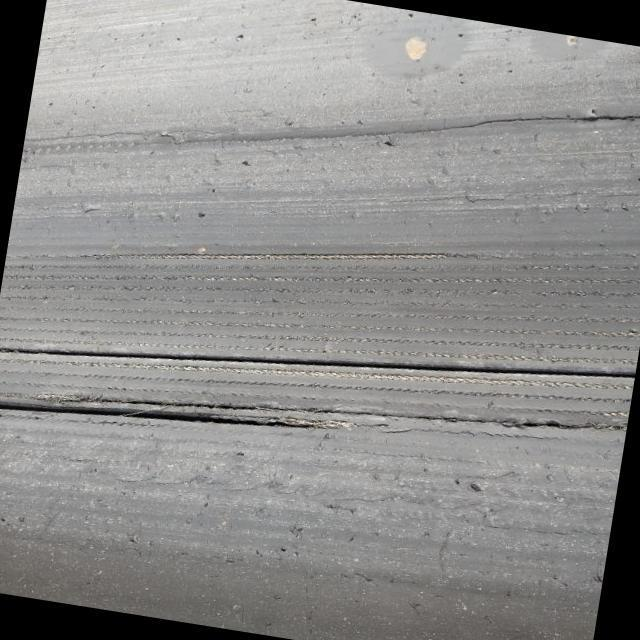Tear: (58, 389, 627, 434), (0, 344, 640, 384), (1, 393, 324, 431), (399, 106, 640, 140)
Wear: (0, 247, 640, 374)
